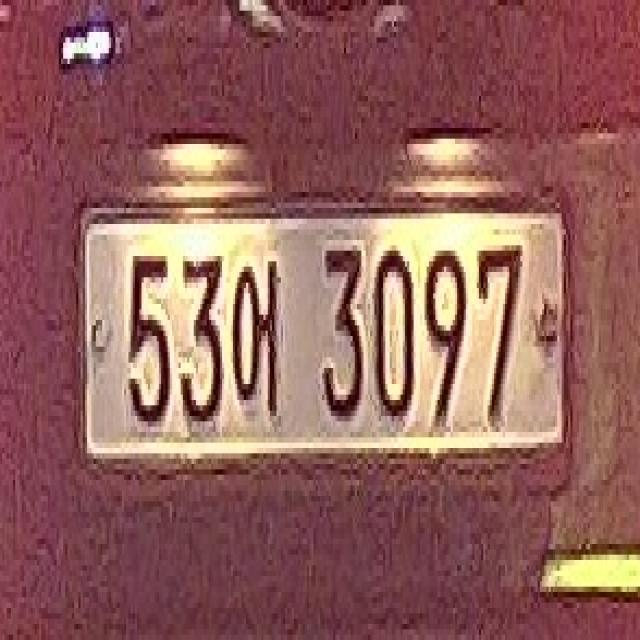0: (370, 224, 416, 427)
3: (318, 224, 372, 437), (170, 240, 228, 437)
5: (126, 235, 176, 448)
7: (479, 208, 529, 443)
9: (424, 235, 472, 442)
eo: (224, 251, 285, 437)
license_plate: (67, 182, 584, 518)
